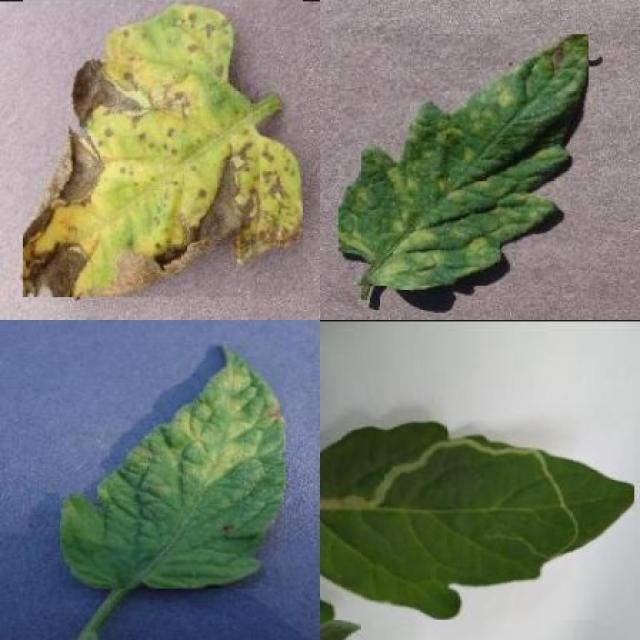Leaf Miner: (320, 420, 634, 620)
Leaf Mold: (338, 34, 588, 286), (61, 342, 286, 588)
Septoria: (23, 0, 303, 297)
